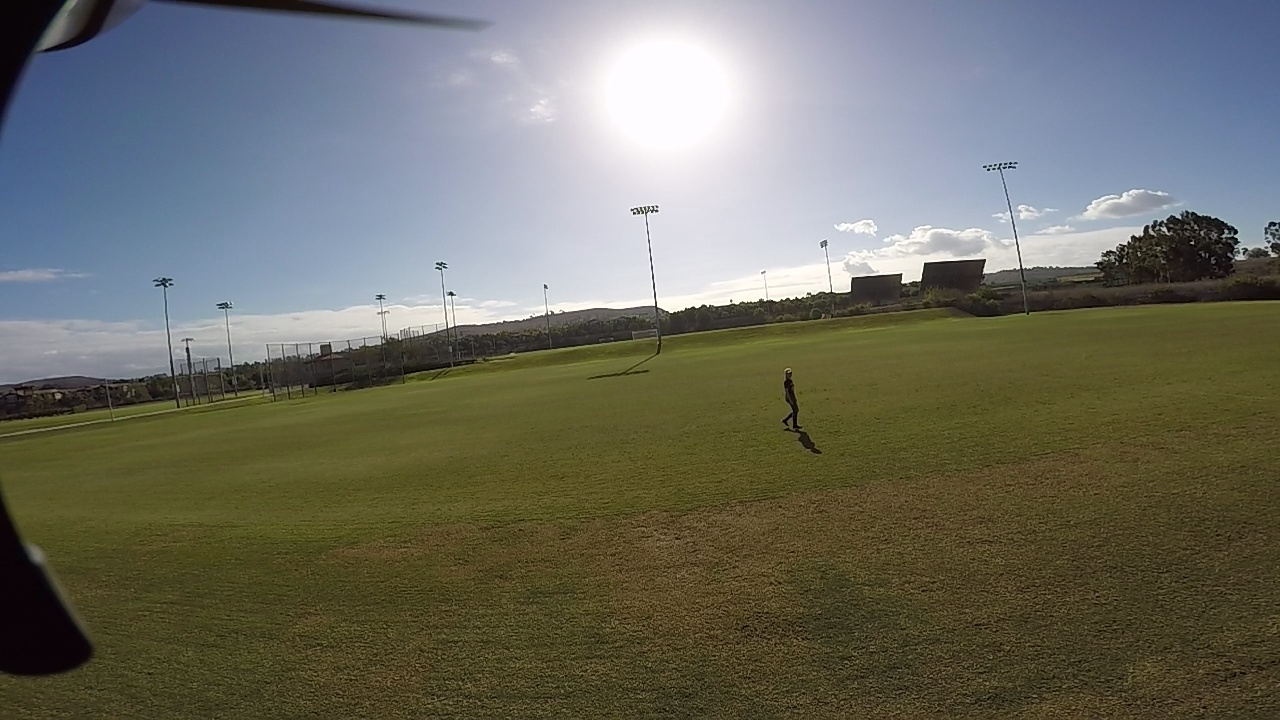person: (779, 361, 802, 425)
